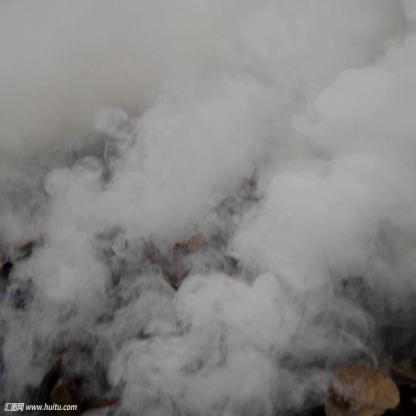smoke: (98, 122, 415, 329), (3, 3, 415, 122), (0, 123, 97, 385), (101, 332, 344, 412)
